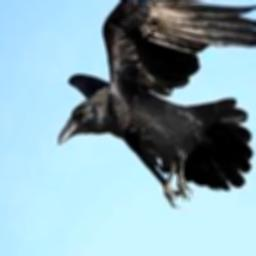Crow: (60, 0, 256, 209)
